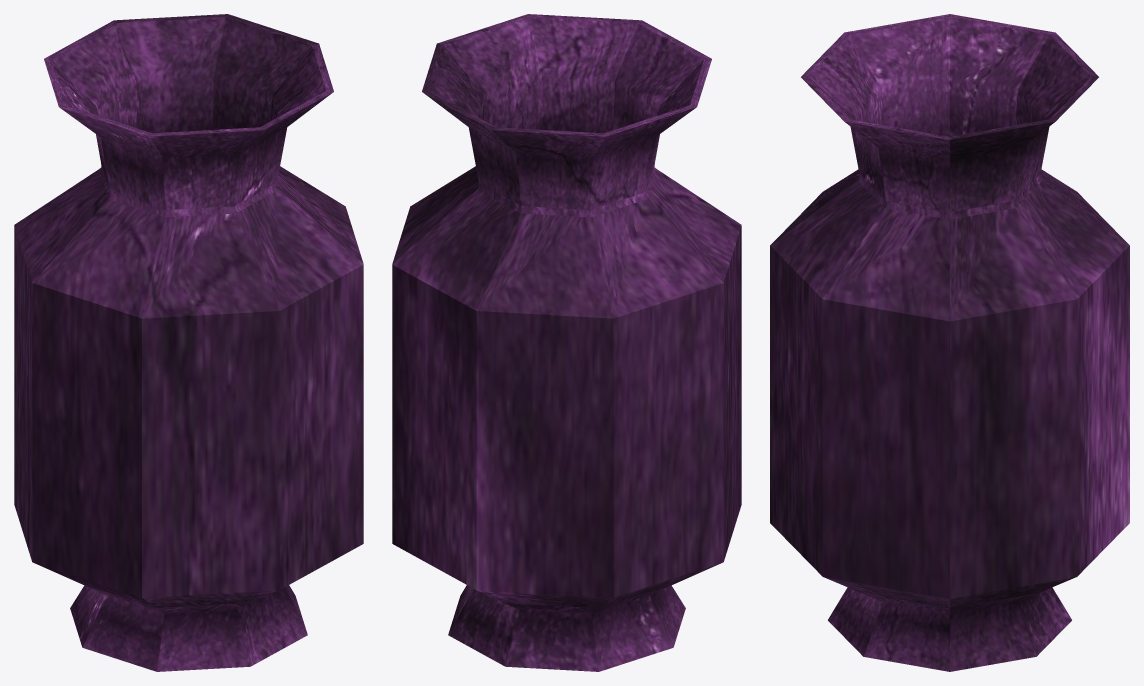
The model's file is myjarron2destruido.fbx.
3 views of the same model, side by side, from view 1: azimuth 30°, elevation 25°; view 2: azimuth 150°, elevation 25°; view 3: azimuth 270°, elevation 25° (orthographic).
Visible parts, largest first — view 1: pPipe2, pPipe6, pPipe3, pPipe4, pPipe5; view 2: pPipe2, pPipe6, pPipe5, pPipe4; view 3: pPipe2, pPipe3, pPipe5, pPipe4, pPipe6.
Boxes of the visible parts, x1=… form: pPipe2: x1=14, y1=14, x2=363, y2=318; pPipe6: x1=32, y1=283, x2=307, y2=671; pPipe3: x1=142, y1=311, x2=279, y2=597; pPipe4: x1=279, y1=265, x2=363, y2=589; pPipe5: x1=14, y1=226, x2=32, y2=561; pPipe2: x1=392, y1=14, x2=741, y2=318; pPipe6: x1=448, y1=226, x2=741, y2=671; pPipe5: x1=614, y1=283, x2=723, y2=597; pPipe4: x1=392, y1=265, x2=476, y2=589; pPipe2: x1=770, y1=14, x2=1129, y2=321; pPipe3: x1=822, y1=299, x2=949, y2=598; pPipe5: x1=950, y1=299, x2=1077, y2=598; pPipe4: x1=770, y1=246, x2=1129, y2=576; pPipe6: x1=823, y1=577, x2=1076, y2=671.
Bounding box in the file's own units: 20.24 × 33.71 × 20.24.
Materials: 1 (1 with a texture image).
